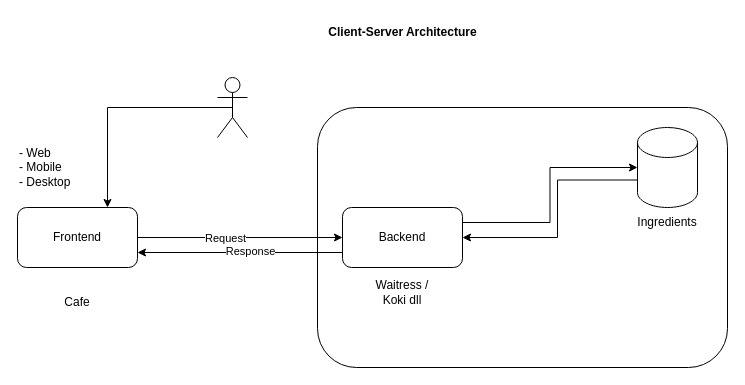
Image size: 745x385. Some labels were removed from this diagram. The centre of each missing label's shape, as x and y in pixels:
"Customer / User" belongs at [232,107].
"DB" belongs at [667,167].
